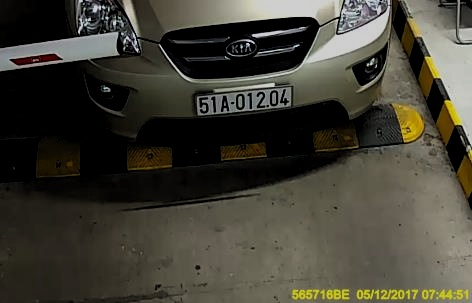plate: (195, 84, 292, 116)
